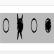correct: (44, 15, 52, 36)
no answer: (31, 15, 38, 36), (2, 16, 10, 34)
not correct: (16, 13, 24, 41)
